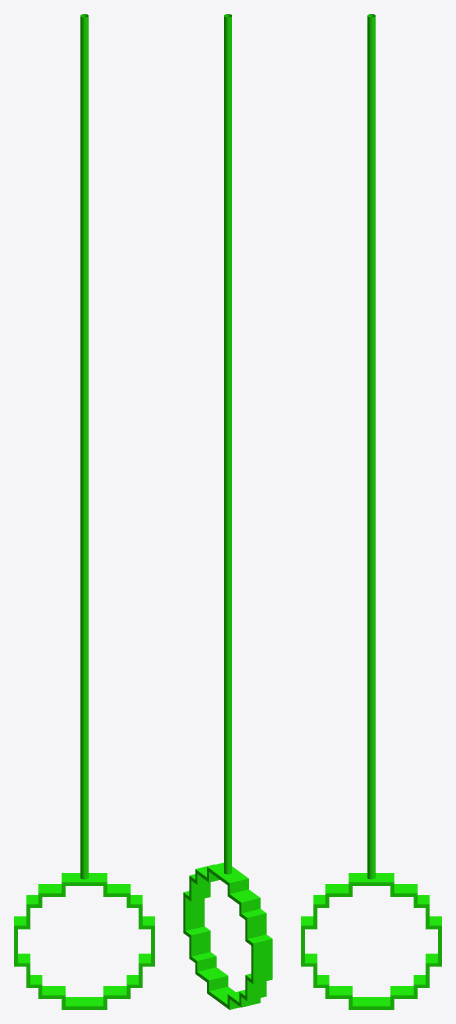
The model's file is cutter3_pixel.fbx.
3 views of the same model, side by side, from view 1: azimuth 90°, elevation 25°; view 2: azimuth 210°, elevation 25°; view 3: azimuth 270°, elevation 25° (orthographic).
Parts seen in each view (by area): view 1: Cutter3_Pixel; view 2: Cutter3_Pixel; view 3: Cutter3_Pixel.
Part boxes in pixels (x1,y1,x2,y2): Cutter3_Pixel: (14,14,154,1009); Cutter3_Pixel: (183,14,272,1009); Cutter3_Pixel: (301,14,441,1009).
Size of the model in its own units: 16.87 by 823 by 106.
